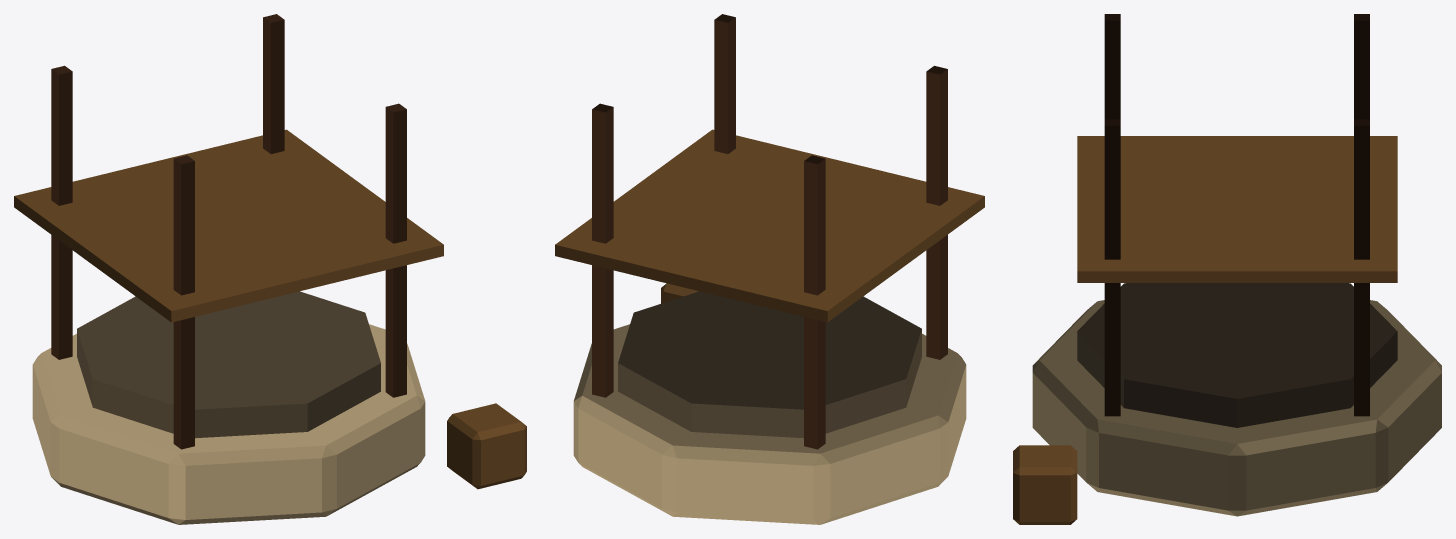
Rendered from great_work_1.obj.
3 renders of one model, left to right at view 1: azimuth 30°, elevation 25°; view 2: azimuth 150°, elevation 25°; view 3: azimuth 270°, elevation 25°, orthographic.
Parts seen in each view (by area): view 1: core_plank, core_stone, core_stone_dark, core_wood; view 2: core_plank, core_stone, core_stone_dark, core_wood; view 3: core_plank, core_stone, core_stone_dark, core_wood.
Part boxes in pixels (x1,y1,x2,y2): core_plank: [14, 129, 526, 489]; core_stone: [32, 324, 425, 524]; core_stone_dark: [77, 291, 380, 438]; core_wood: [51, 14, 406, 449]; core_plank: [555, 129, 984, 322]; core_stone: [573, 324, 966, 524]; core_stone_dark: [618, 291, 921, 438]; core_wood: [592, 14, 947, 449]; core_plank: [1013, 136, 1397, 524]; core_stone: [1032, 300, 1441, 516]; core_stone_dark: [1077, 283, 1397, 427]; core_wood: [1104, 14, 1369, 416].
Size of the model in its own units: 0.2677 by 0.25 by 0.2677.
